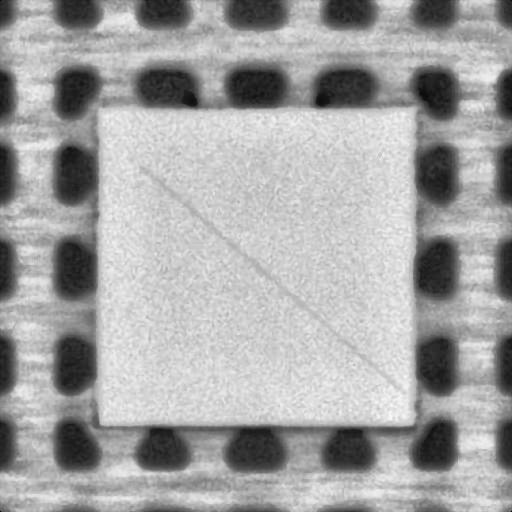DIE_CRACK: (140, 166, 402, 392)
